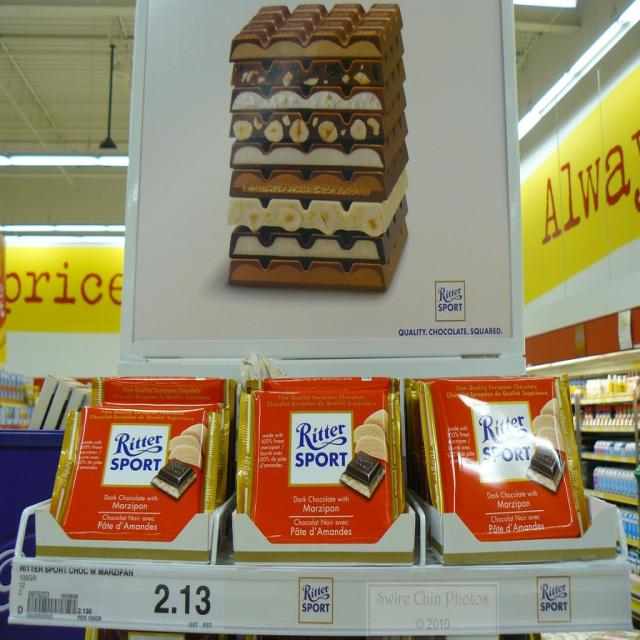rittersport: (471, 401, 544, 486), (289, 411, 359, 489), (103, 424, 172, 489), (538, 575, 571, 625), (300, 579, 334, 624), (437, 283, 466, 323)
